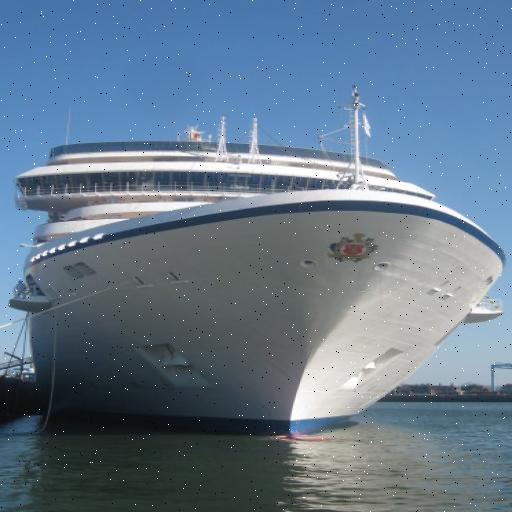cruises: (9, 82, 512, 446)
